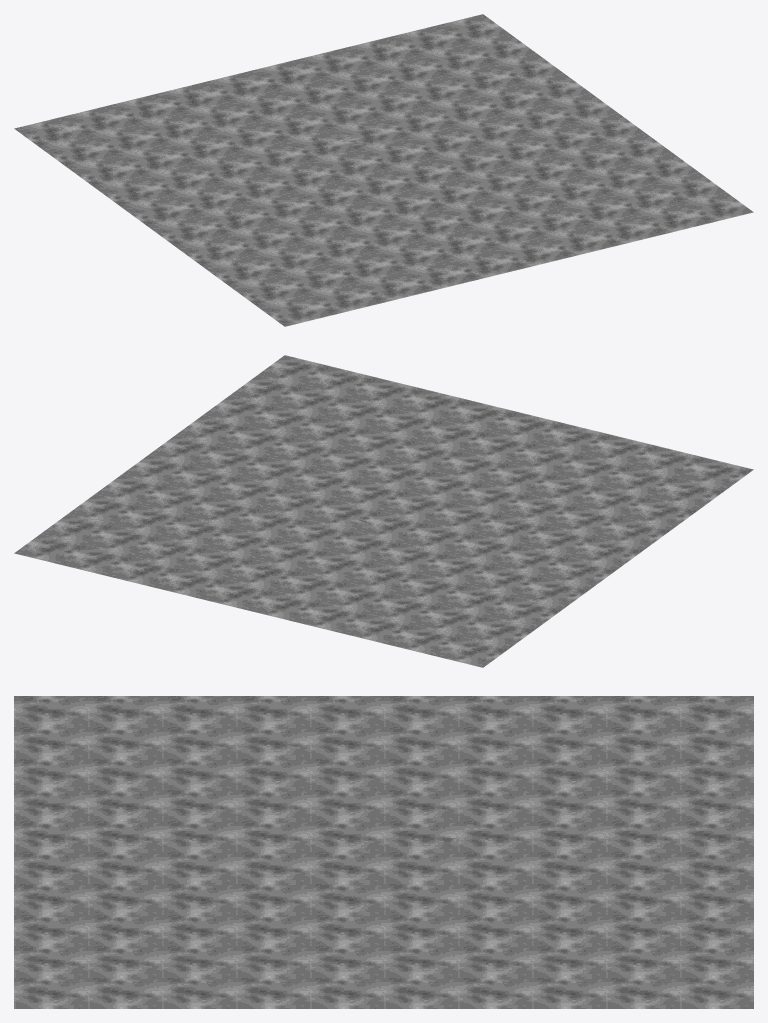
Rendered from reflect.dae.
3 renders of one model, top to bottom at view 1: azimuth 30°, elevation 25°; view 2: azimuth 150°, elevation 25°; view 3: azimuth 270°, elevation 25°, orthographic. The views are drawn at different scales.
Visible parts, largest first — view 1: n0b0; view 2: n0b0; view 3: n0b0.
Part boxes in pixels (bbox=[...]): n0b0: bbox=[14, 14, 753, 326]; n0b0: bbox=[14, 355, 753, 667]; n0b0: bbox=[14, 696, 753, 1008].
Size of the model in its own units: 100000 by 2850 by 100000.
Materials: 1 (1 with a texture image).
